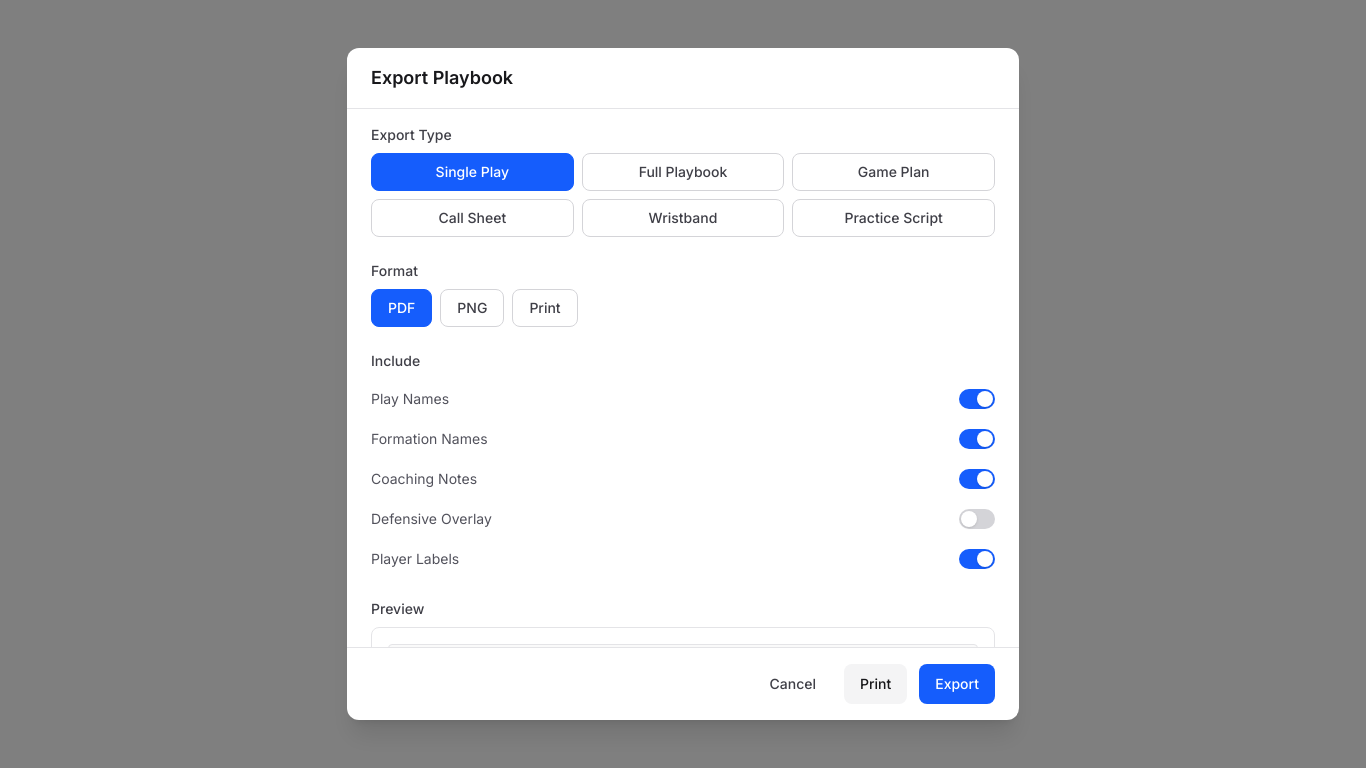
ExportManager › shows layout options for full_playbook type
Click the button with test id "export-type-full_playbook".
click(683, 172)  # box [582,153,784,191]
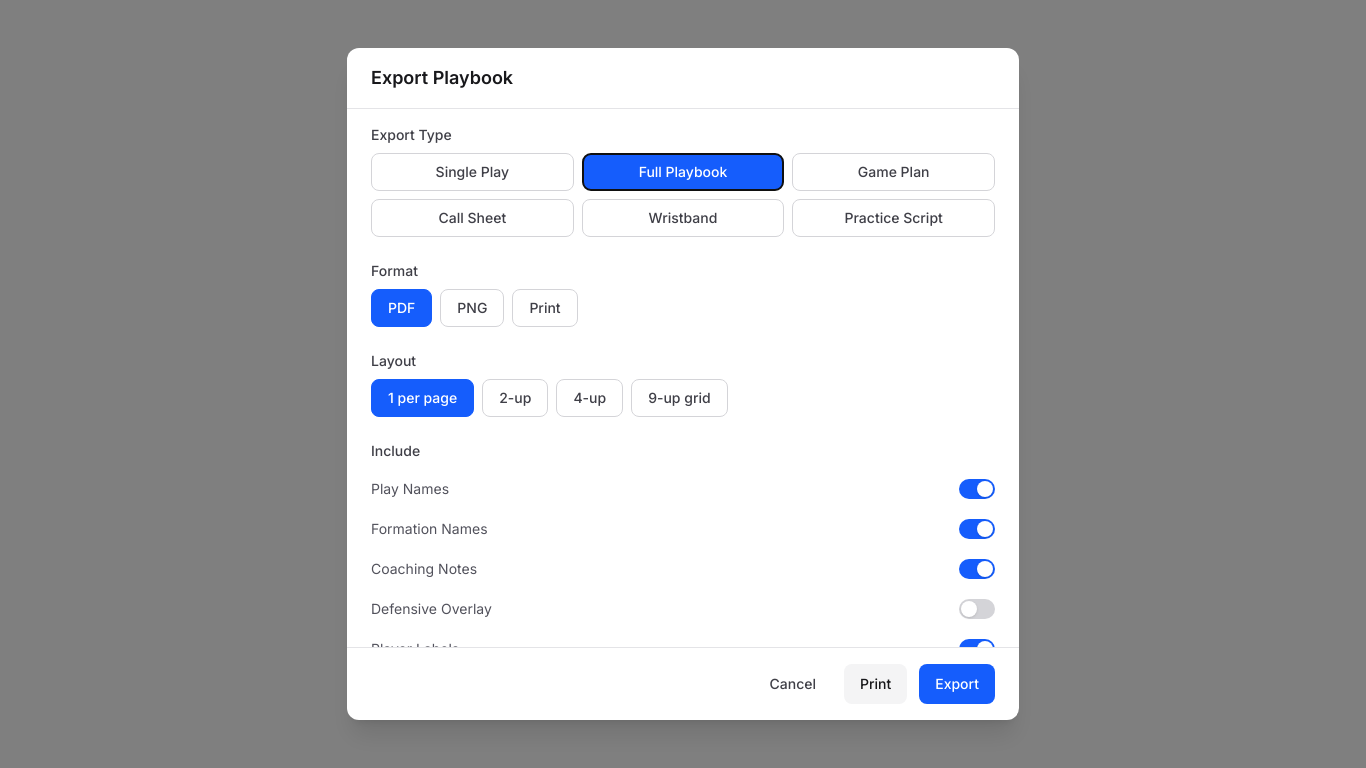
Expected: the element with test id "layout-section" is shown, [371,352,728,417]
